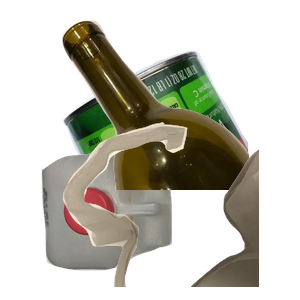glass: (60, 18, 300, 198)
metal: (60, 48, 300, 228)
plastic: (39, 149, 203, 300)
trash: (60, 120, 300, 300)
